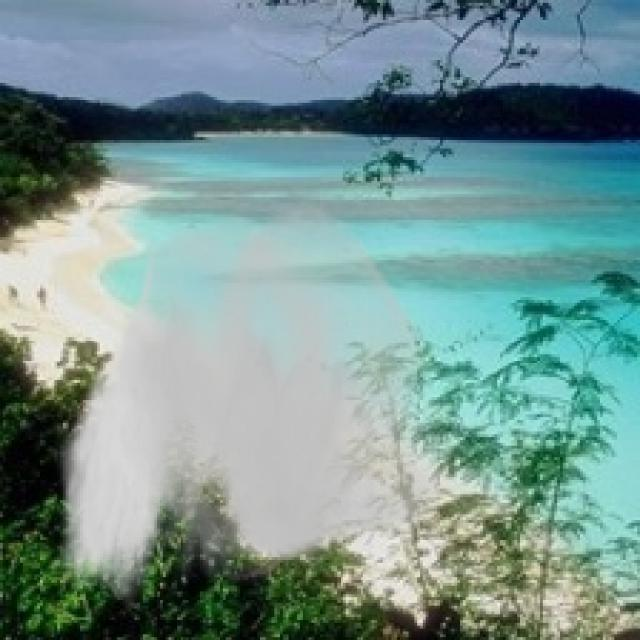Smoke: (54, 192, 440, 608)
